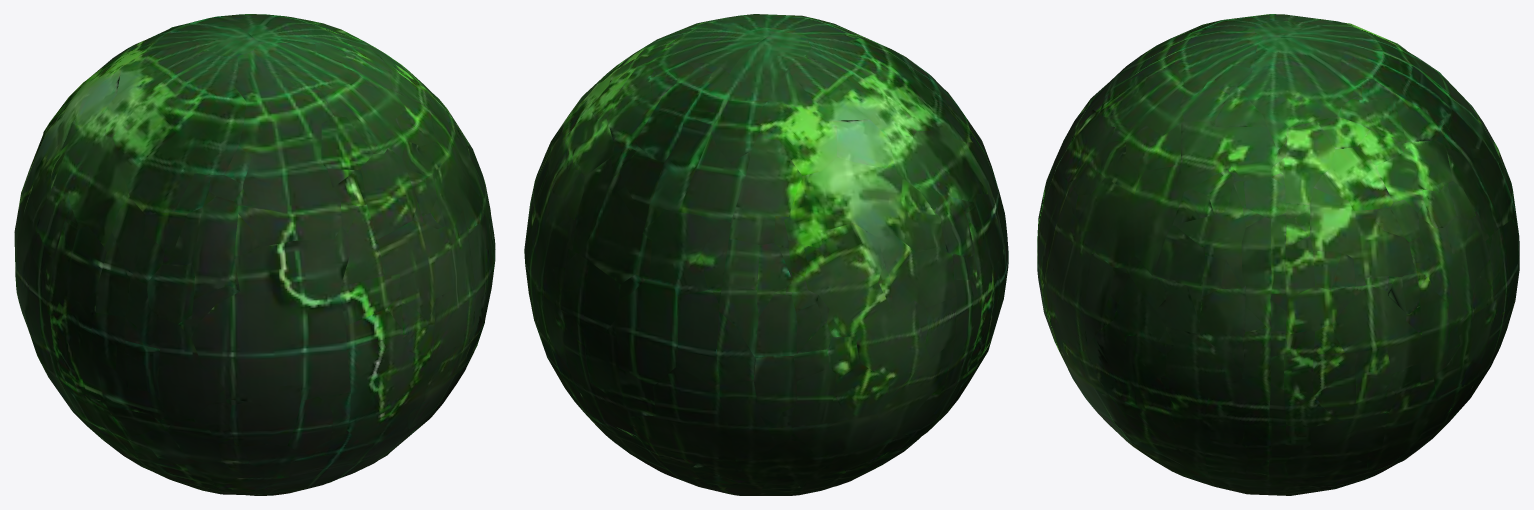
File: globe-node.glb
3 renders of one model, left to right at view 1: azimuth 30°, elevation 25°; view 2: azimuth 150°, elevation 25°; view 3: azimuth 270°, elevation 25°, orthographic.
Parts seen in each view (by area): view 1: model; view 2: model; view 3: model.
Part boxes in pixels (x1,y1,x2,y2): model: (14, 14, 495, 495); model: (524, 14, 1008, 495); model: (1037, 14, 1519, 495).
Size of the model in its own units: 1.8 by 1.81 by 1.79.
Materials: 1 (1 with a texture image).
